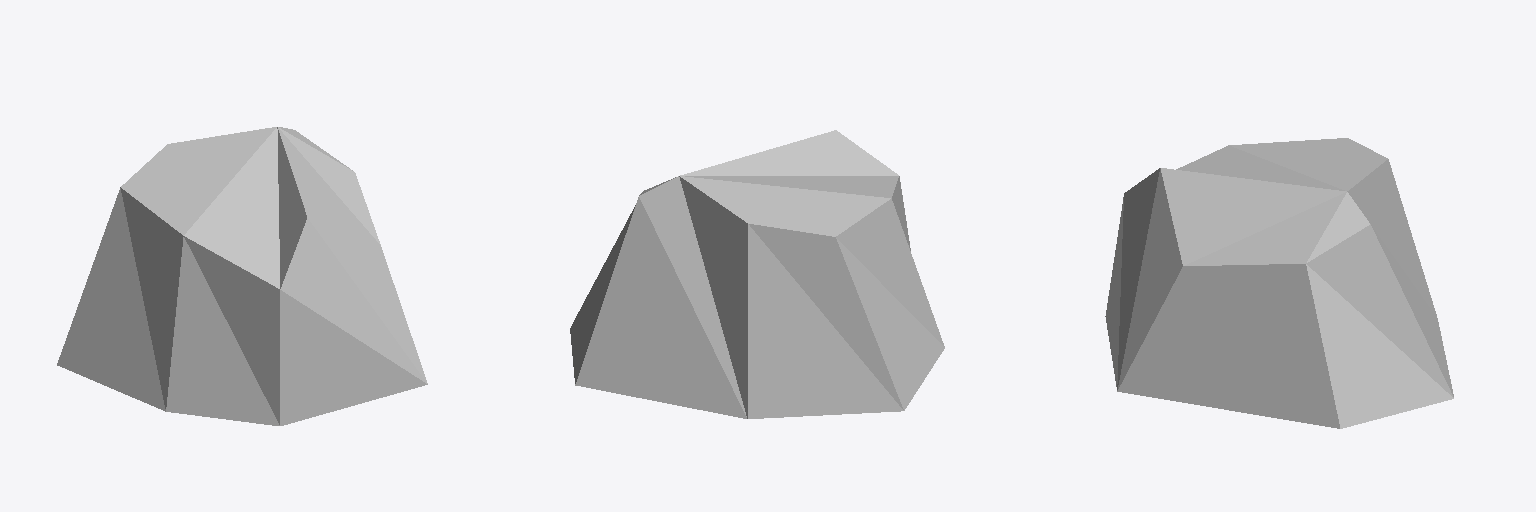
The model's file is rock.obj.
The picture shows the model from 3 angles: view 1: azimuth 30°, elevation 25°; view 2: azimuth 150°, elevation 25°; view 3: azimuth 270°, elevation 25°; orthographic projection.
Visible parts, largest first — view 1: Cube; view 2: Cube; view 3: Cube.
Boxes of the visible parts, box(x1,y1,x2,y2) form: Cube: box(57, 127, 427, 425); Cube: box(570, 130, 944, 418); Cube: box(1105, 138, 1453, 428).
Size of the model in its own units: 1.8 by 0.9363 by 1.62.